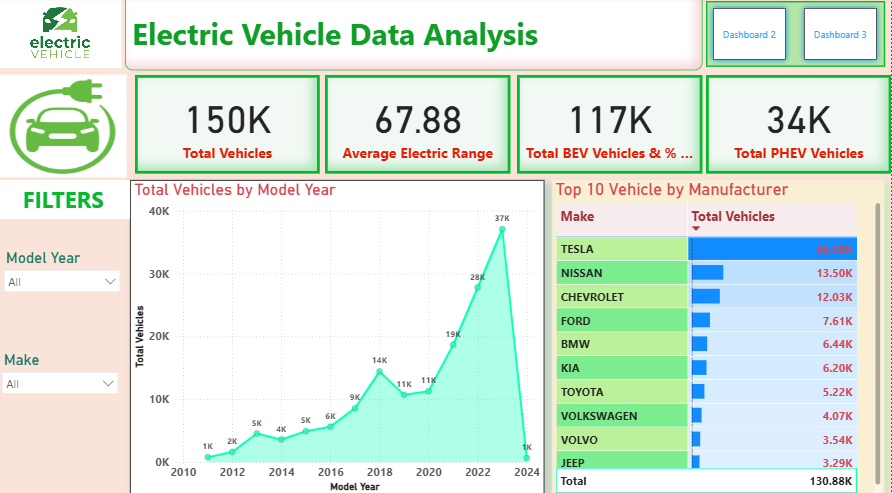

This screenshot's page, from the dashboard's own definition file:
{"tool":"powerbi","page":{"name":"Dashboard 1","canvas":[1280,720],"ordinal":0},"visuals":[{"type":"card","fields":{"Values":["Electric_Vehicle_Population_Dat.Total Vehicles"]},"box":[200,116.6,264,141.1],"z":0},{"type":"card","fields":{"Values":["Electric_Vehicle_Population_Dat.Average Electric Range"]},"box":[472.1,116.6,265,141.1],"z":1000},{"type":"card","fields":{"Values":["Electric_Vehicle_Population_Dat.Total BEV Vehicles & % BEV"]},"box":[745.9,116.6,265,141.1],"z":2000},{"type":"card","fields":{"Values":["Electric_Vehicle_Population_Dat.Total PHEV Vehicles"]},"box":[1015.2,116.6,265,141.1],"z":3000},{"type":"image","box":[0,1.4,185.8,110.9],"z":4000},{"type":"textbox","box":[185.8,1.4,825.1,109.4],"z":5000},{"type":"lineChart","fields":{"Y":["Electric_Vehicle_Population_Dat.Total Vehicles"],"Category":["Electric_Vehicle_Population_Dat.Model Year"]},"box":[193,267.8,591.8,452.2],"z":6000},{"type":"tableEx","title":"Top 10 Vehicle by Manufacturer","fields":{"Values":["Electric_Vehicle_Population_Dat.Make","Electric_Vehicle_Population_Dat.Total Vehicles"]},"box":[796.3,267.8,475.2,452.2],"z":7000},{"type":"pageNavigator","box":[1015.7,11.4,255.7,94.3],"z":8000},{"type":"slicer","fields":{"Values":["Electric_Vehicle_Population_Dat.Model Year"]},"box":[2.9,360,185.8,110.9],"z":9000},{"type":"slicer","fields":{"Values":["Electric_Vehicle_Population_Dat.Make"]},"box":[0,505.4,185.8,115.2],"z":10000},{"type":"image","box":[0,110.9,193,157],"z":11000},{"type":"textbox","box":[2.9,267.8,190.1,56.2],"z":12000}]}

Visuals, with their boxes in screenshot pixels (x1, y1, x2, y2), scaled from the page's 1280x720 canvas onto the 892x493 screenshot:
card - Electric_Vehicle_Population_Dat.Total Vehicles: x1=139 y1=80 x2=323 y2=176
card - Electric_Vehicle_Population_Dat.Average Electric Range: x1=329 y1=80 x2=514 y2=176
card - Electric_Vehicle_Population_Dat.Total BEV Vehicles & % BEV: x1=520 y1=80 x2=704 y2=176
card - Electric_Vehicle_Population_Dat.Total PHEV Vehicles: x1=707 y1=80 x2=891 y2=176
image: x1=0 y1=1 x2=129 y2=77
textbox: x1=129 y1=1 x2=704 y2=76
lineChart - Electric_Vehicle_Population_Dat.Total Vehicles x Electric_Vehicle_Population_Dat.Model Year: x1=134 y1=183 x2=547 y2=492
"Top 10 Vehicle by Manufacturer" tableEx: x1=555 y1=183 x2=886 y2=492
pageNavigator: x1=708 y1=8 x2=886 y2=72
slicer - Electric_Vehicle_Population_Dat.Model Year: x1=2 y1=246 x2=132 y2=322
slicer - Electric_Vehicle_Population_Dat.Make: x1=0 y1=346 x2=129 y2=425
image: x1=0 y1=76 x2=134 y2=183
textbox: x1=2 y1=183 x2=134 y2=222
